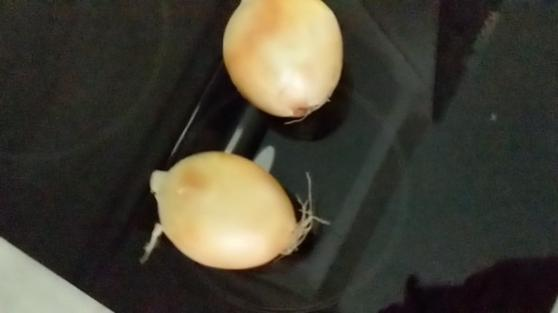onion: (146, 151, 329, 272), (220, 1, 345, 127)
